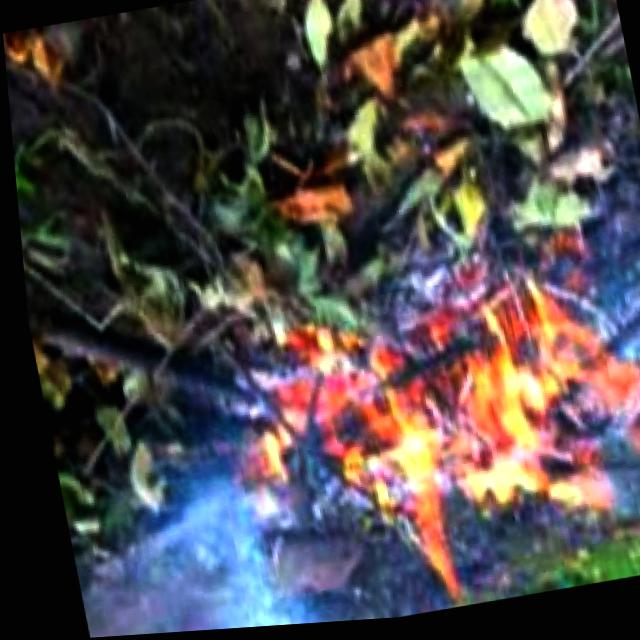Fire: (190, 217, 640, 631)
